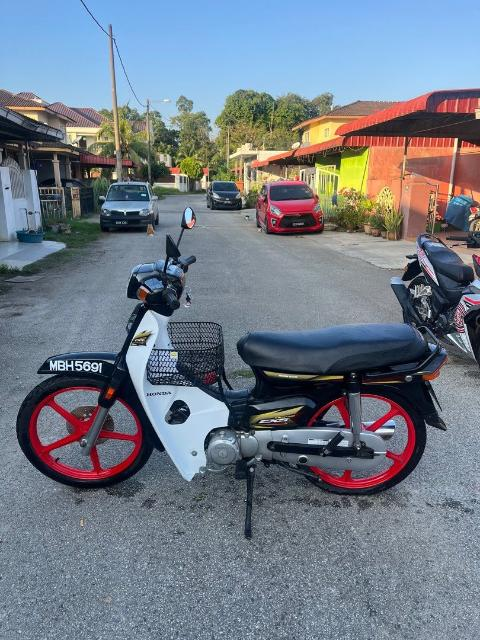License_Plate: (47, 356, 106, 381)
motorcycle: (17, 207, 450, 538), (392, 231, 480, 371)
